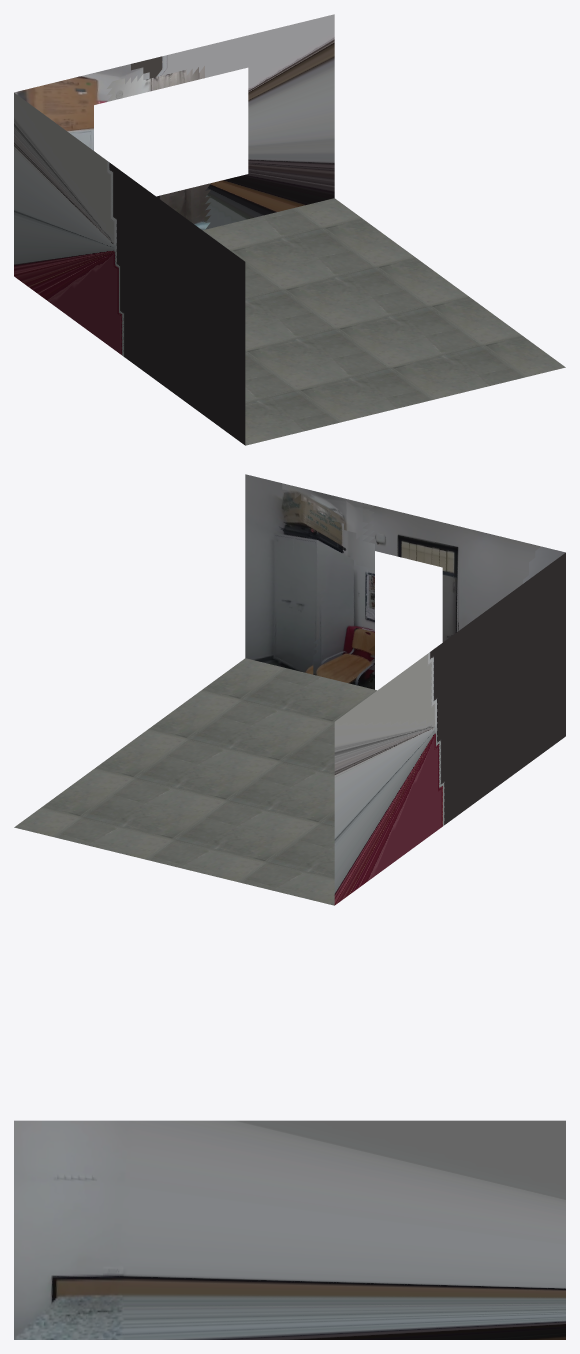
The model's file is architectural_shell.glb.
The picture shows the model from 3 angles, top to bottom: view 1: azimuth 30°, elevation 25°; view 2: azimuth 150°, elevation 25°; view 3: azimuth 270°, elevation 25°; orthographic projection. The views are drawn at different scales.
Parts seen in each view (by area): view 1: geometry_0; view 2: geometry_0; view 3: geometry_0.
Boxes of the visible parts, x1,y1,x2,y2 form: geometry_0: (14,14,565,445); geometry_0: (14,474,565,905); geometry_0: (14,1120,565,1339).
Bounding box in the file's own units: 5.2 × 2.85 × 6.5.
1 material, 1 textured.
